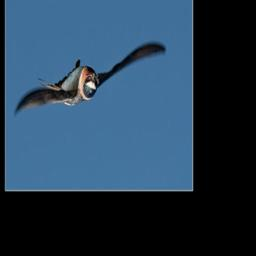Swallow: (15, 44, 167, 122)
